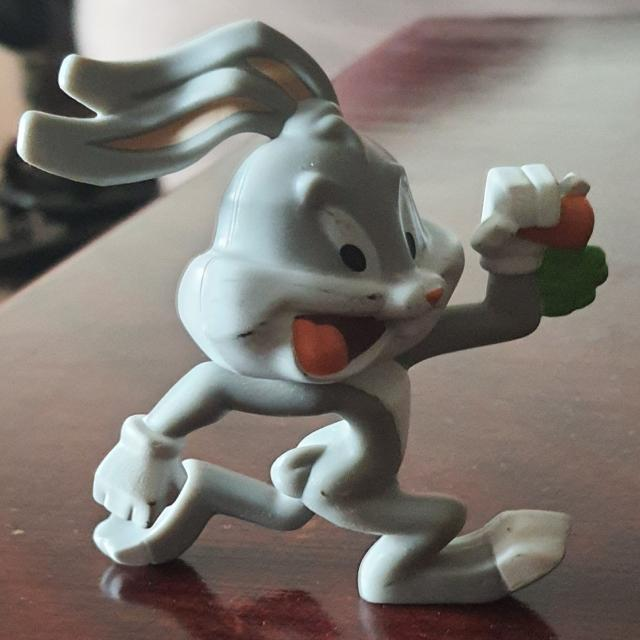Rabbit: (18, 17, 606, 606)
